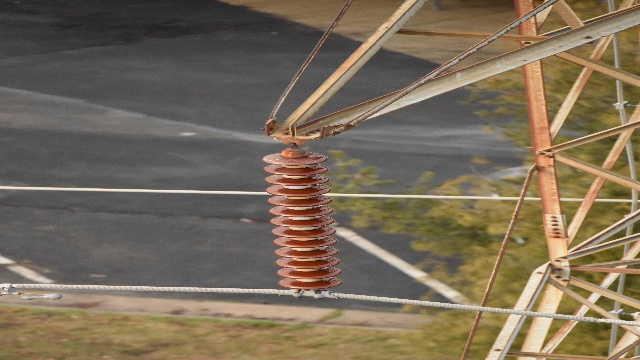insulator_unspecified: (262, 150, 341, 288)
pollution_flashover_local: (274, 167, 303, 175), (263, 153, 283, 161)
